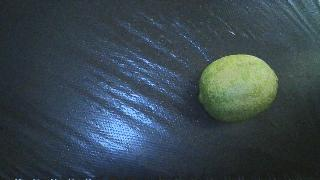DESECHO: (199, 54, 278, 122)
